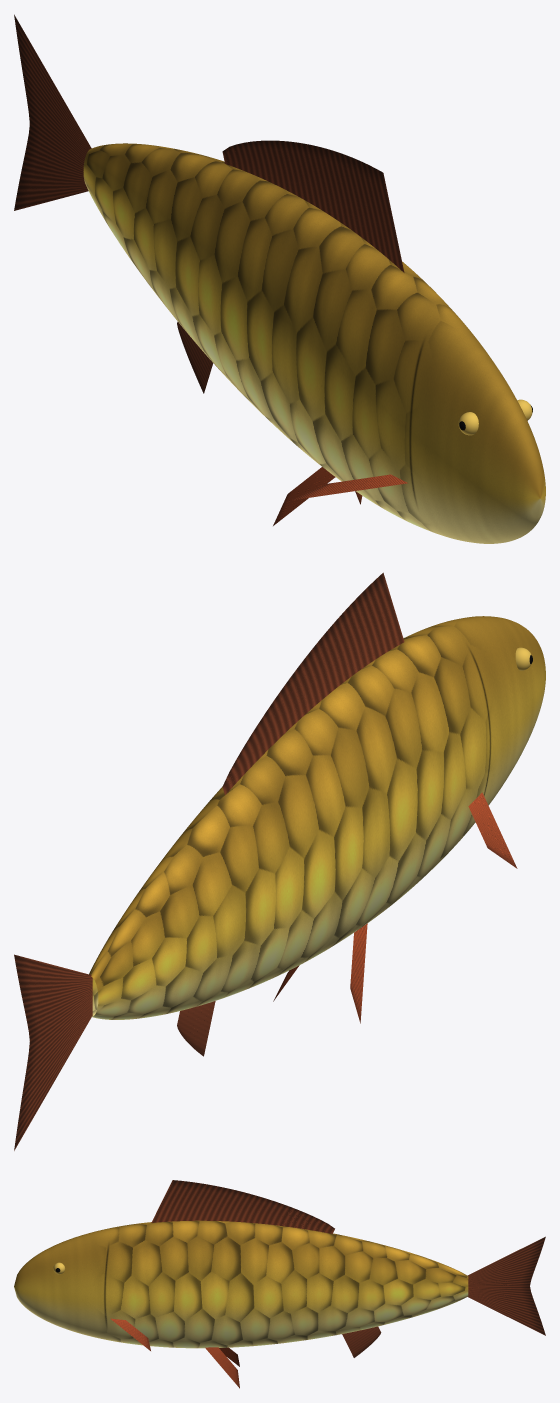
Rendered from karas_gold.obj.
The picture shows the model from 3 angles, top to bottom: view 1: azimuth 30°, elevation 25°; view 2: azimuth 150°, elevation 25°; view 3: azimuth 270°, elevation 25°; orthographic projection. The views are drawn at different scales.
Visible parts, largest first — view 1: body, fin_dorsal0, fin_tail, fin_pect_R, fin_pelv_R, fin_anal0; view 2: body, fin_dorsal0, fin_tail, fin_anal0, fin_pect_R, fin_pelv_R; view 3: body, fin_dorsal0, fin_tail, fin_anal0, fin_pelv_L, fin_pect_L.
Part boxes in pixels (box(x1,y1,x2,y2)): body: box(83, 143, 545, 543); fin_dorsal0: box(222, 140, 404, 272); fin_tail: box(14, 14, 91, 210); fin_pect_R: box(292, 474, 407, 500); fin_pelv_R: box(273, 467, 335, 525); fin_anal0: box(177, 322, 213, 393); body: box(89, 616, 545, 1019); fin_dorsal0: box(222, 572, 404, 794); fin_tail: box(14, 954, 92, 1150); fin_anal0: box(177, 1001, 215, 1056); fin_pect_R: box(468, 792, 517, 868); fin_pelv_R: box(350, 923, 367, 1023); body: box(14, 1220, 468, 1348); fin_dorsal0: box(151, 1180, 334, 1233); fin_tail: box(467, 1236, 545, 1335); fin_anal0: box(342, 1326, 381, 1357); fin_pelv_L: box(205, 1347, 239, 1388); fin_pect_L: box(110, 1318, 150, 1350).
Size of the model in its own units: 0.0695 by 0.1151 by 0.28.
Materials: 5 (3 with a texture image).
